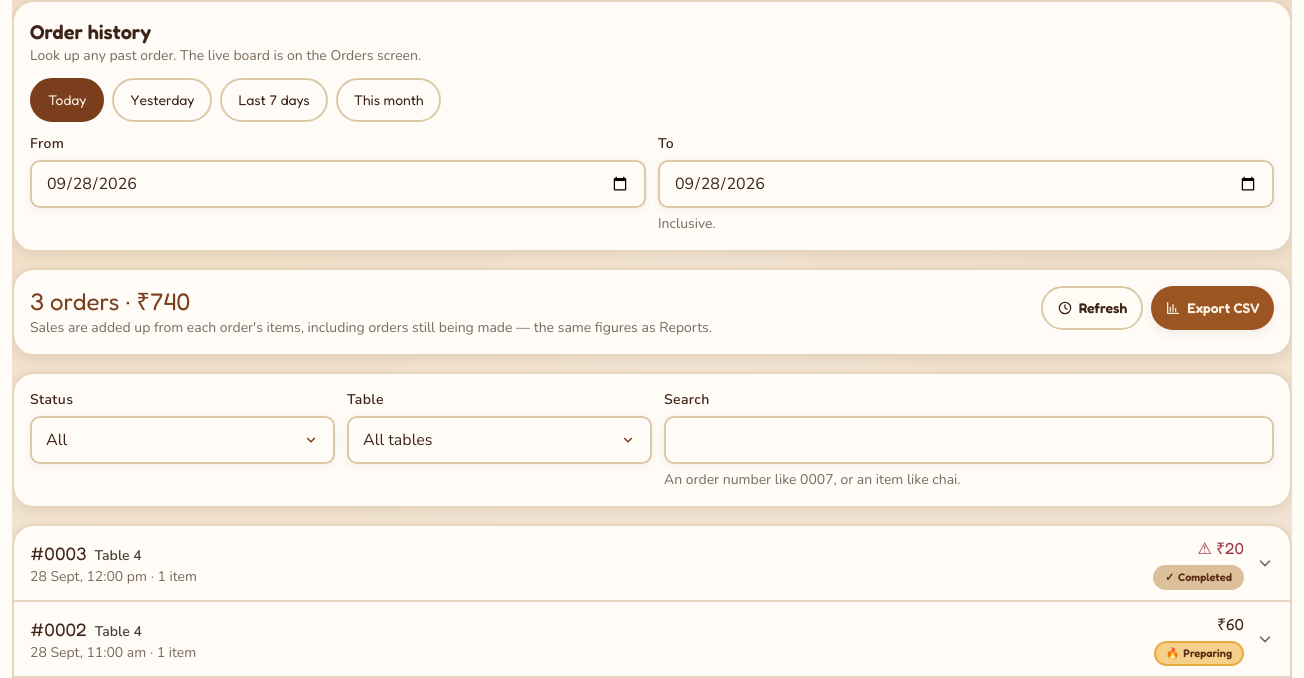
it: order history: ranges › This month queries its own range
The width and height of the screenshot is (1304, 678).
Check: the text "3 orders · ₹740" is shown, box [30,287,190,316]
Click the button "This month" at (389, 100), box [336,78,441,122]
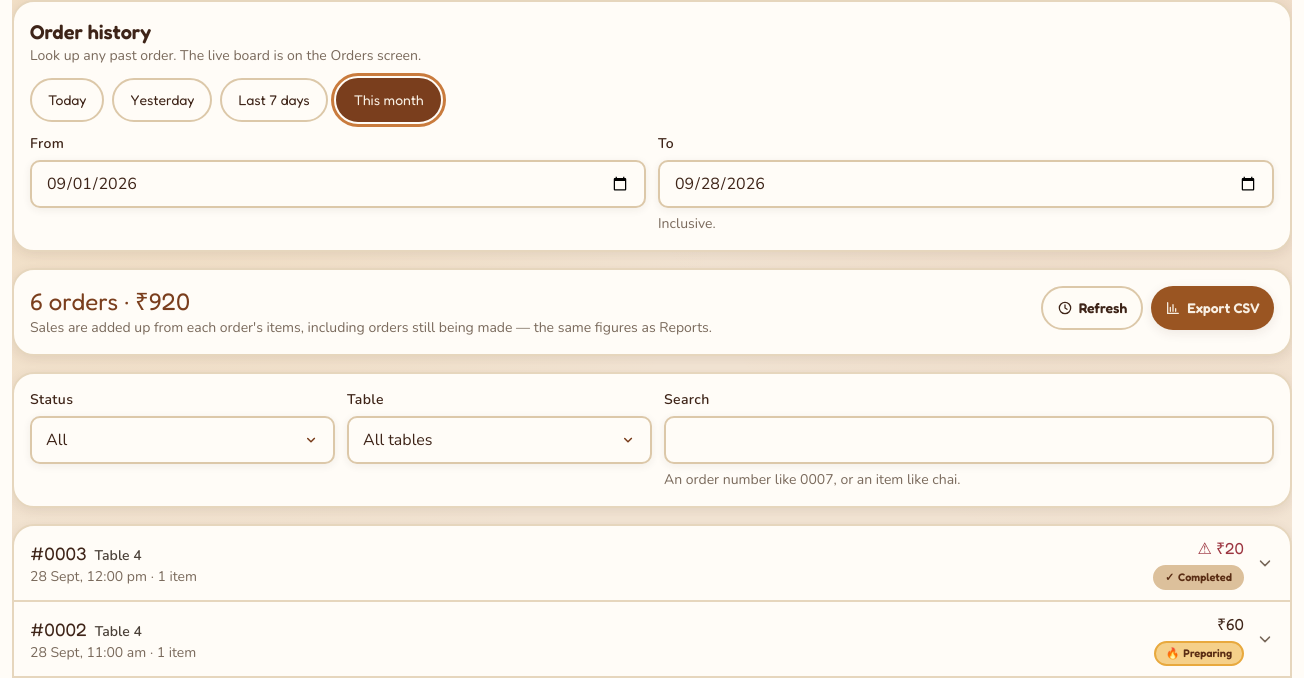
Check: the text "6 orders · ₹920" is shown, box [30,287,190,316]
